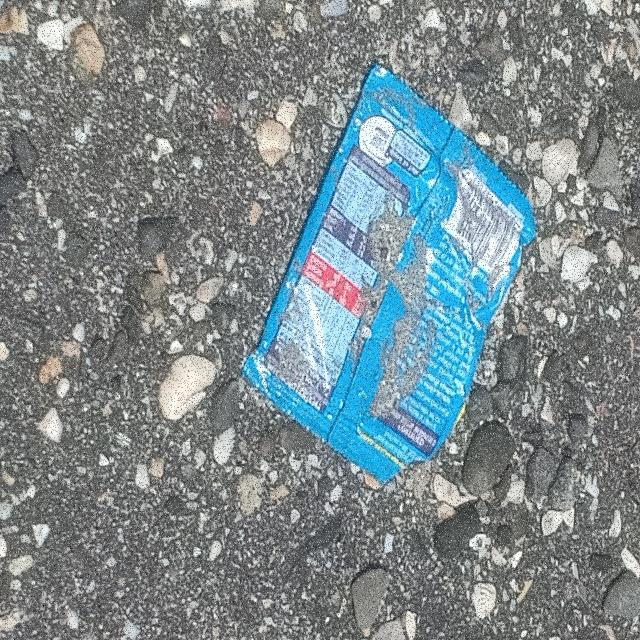plastic_waste: (242, 63, 539, 488)
